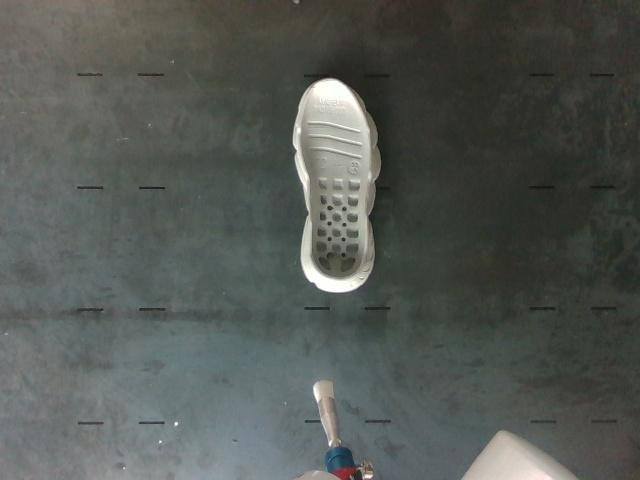shoes: (300, 81, 369, 281)
